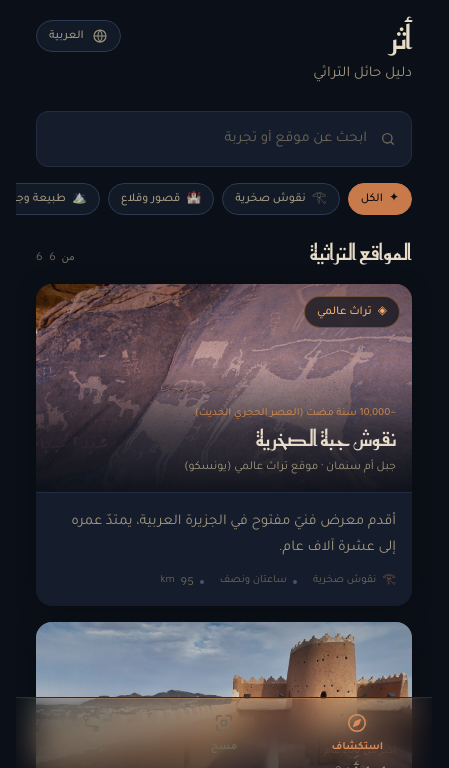
Test: شاشة الاستكشاف › تصفّي القائمة بالبحث
The image size is (449, 768).
Type "أجا" into the search field named "بحث في المواقع" at (224, 139), box [36,111,412,167]
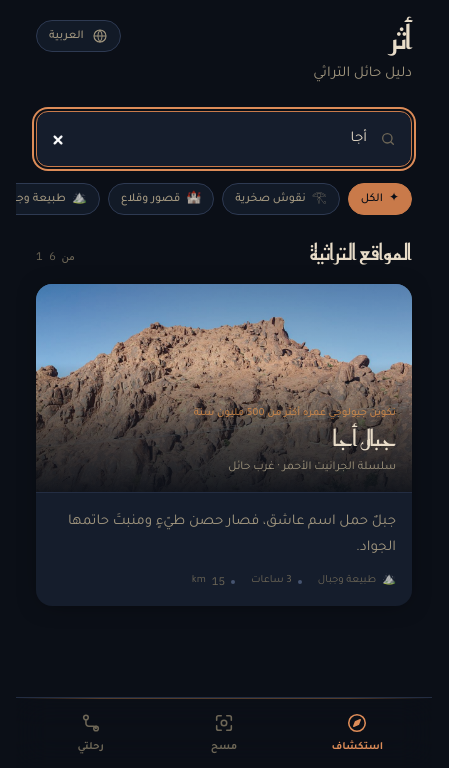
Check: the heading "جبال أجا" is shown, box [333,422,396,455]
Check: the link "نقوش جبة الصخرية" is gone
